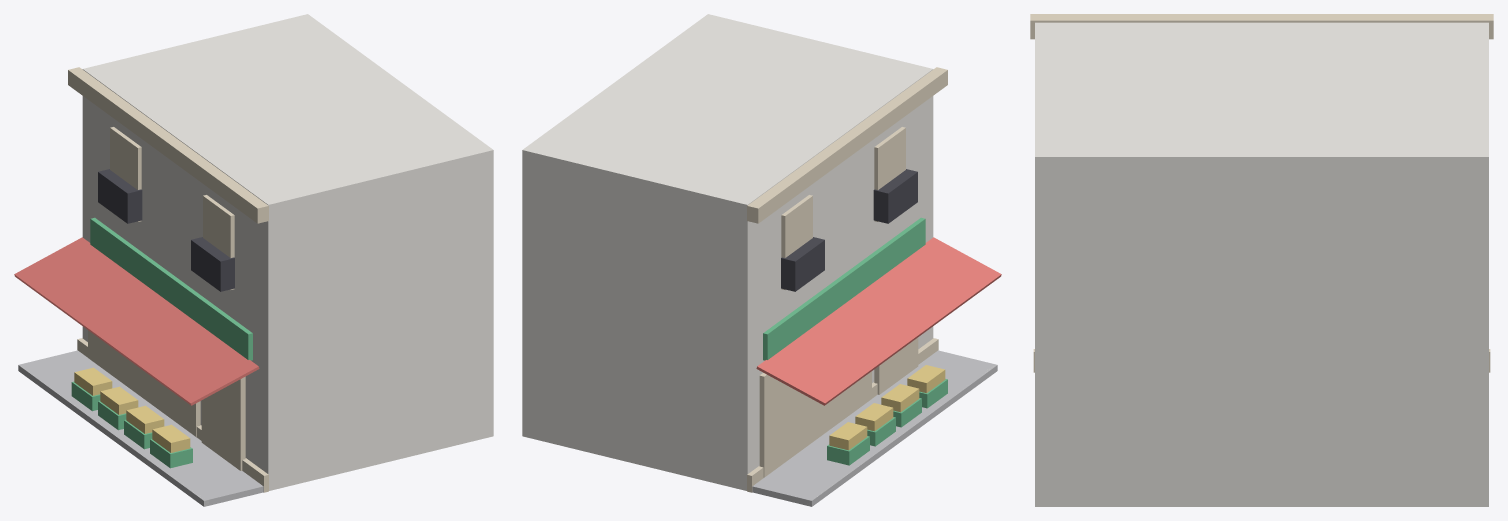
Rendered from SM_Manzana_Floreria_Destino.fbx.
3 renders of one model, left to right at view 1: azimuth 30°, elevation 25°; view 2: azimuth 150°, elevation 25°; view 3: azimuth 270°, elevation 25°, orthographic. The views are drawn at different scales.
Parts seen in each view (by area): view 1: Banqueta_Floreria; view 2: Banqueta_Floreria; view 3: Banqueta_Floreria.
Part boxes in pixels (box(x1,y1,x2,y2)): Banqueta_Floreria: box(14, 14, 493, 506); Banqueta_Floreria: box(522, 14, 1001, 506); Banqueta_Floreria: box(1030, 14, 1493, 506).
Size of the model in its own units: 9.27 by 8.53 by 10.2.
